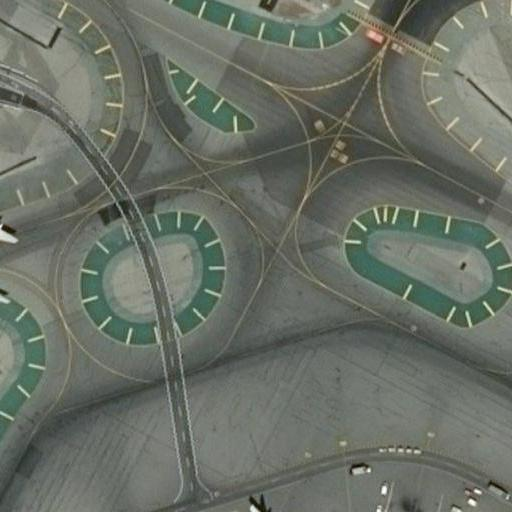Aircraft: (0, 191, 22, 319), (188, 497, 316, 512)
